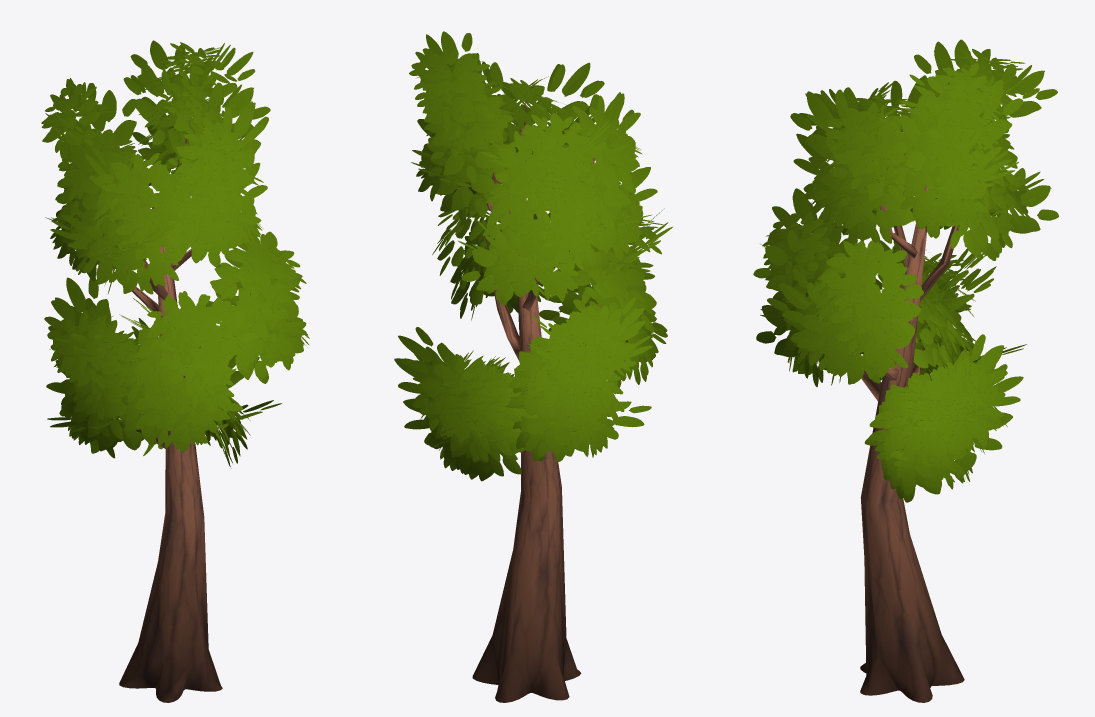
File: mk-common-3-lo.glb
3 views of the same model, side by side, from view 1: azimuth 30°, elevation 25°; view 2: azimuth 150°, elevation 25°; view 3: azimuth 270°, elevation 25° (orthographic). The views are drawn at different scales.
Visible parts, largest first — view 1: CommonTree_3; view 2: CommonTree_3; view 3: CommonTree_3.
Part boxes in pixels (x1,y1,x2,y2): CommonTree_3: (41,40,309,702); CommonTree_3: (394,31,672,702); CommonTree_3: (753,39,1058,702).
Size of the model in its own units: 4.16 by 9.34 by 4.6.
Materials: 2 (2 with a texture image).
